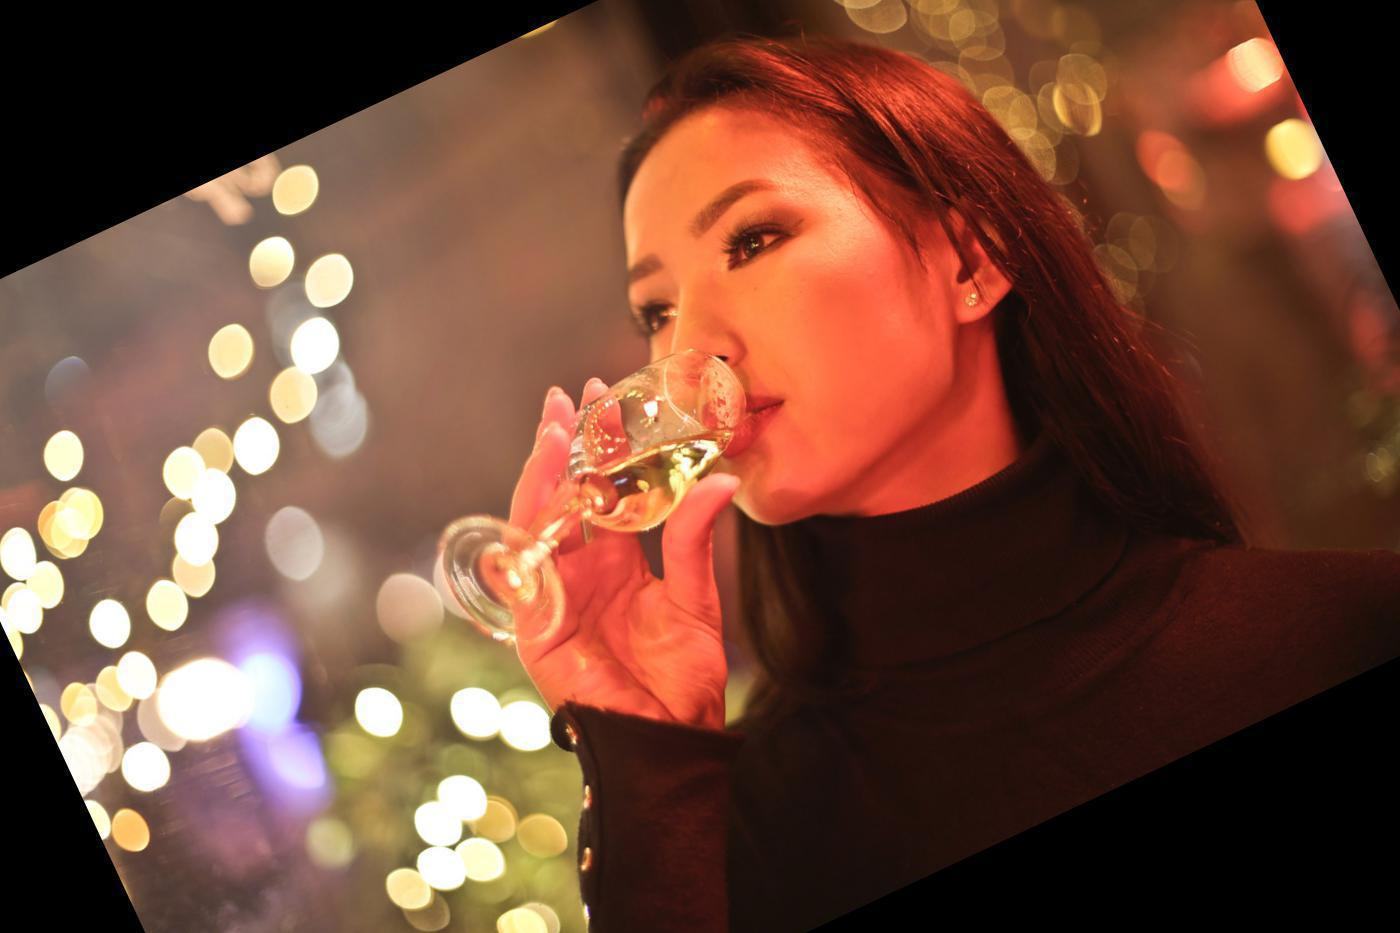Drunk: (615, 120, 938, 512)
